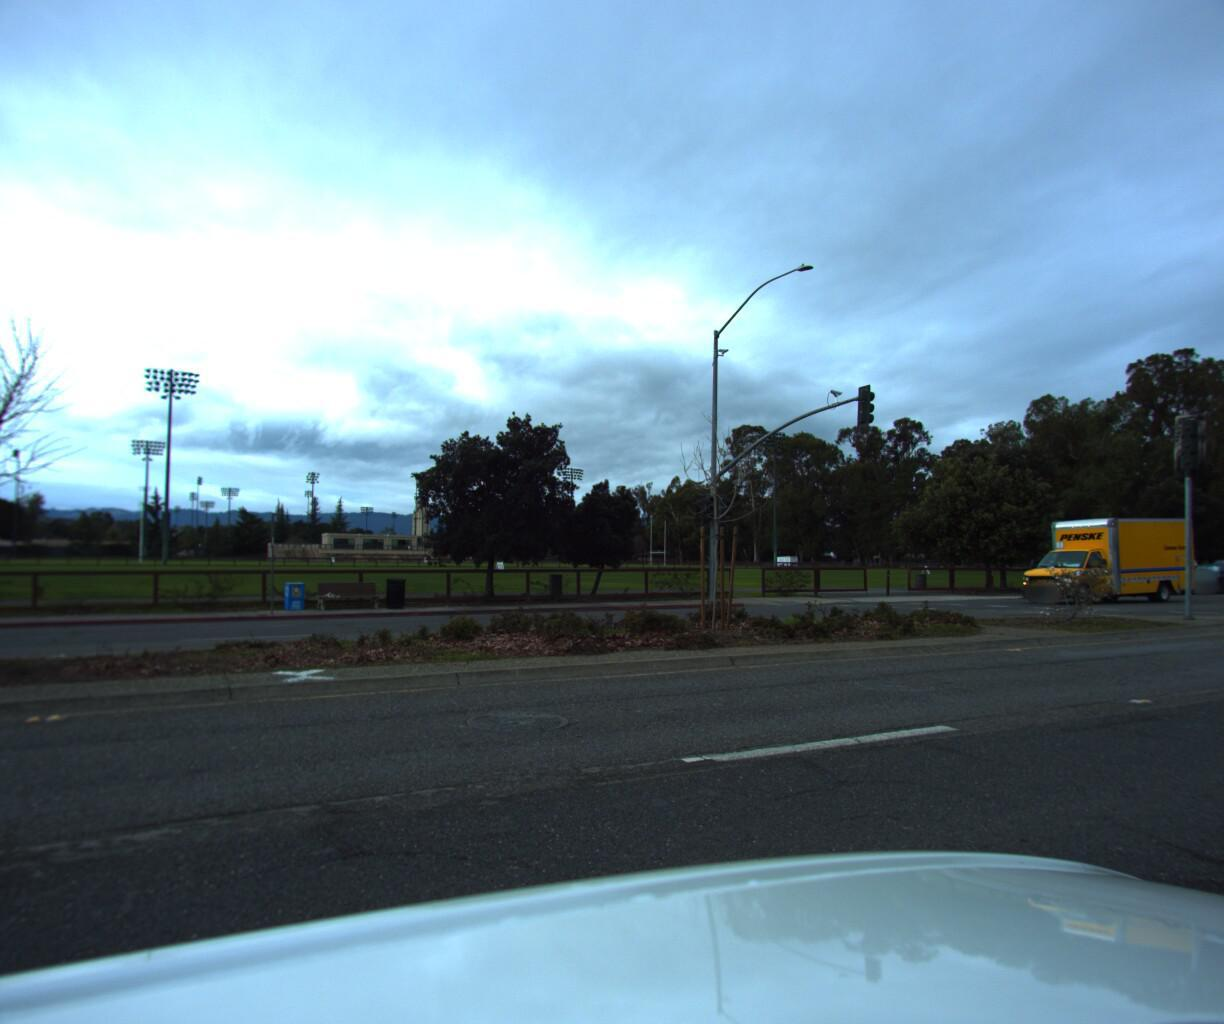car: (1165, 551, 1224, 591), (1216, 561, 1224, 588)
truck: (999, 508, 1204, 606)
